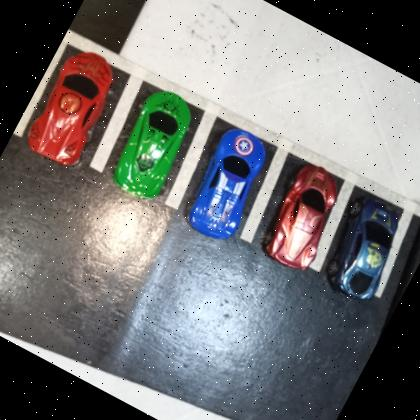Car: (18, 39, 132, 175), (172, 118, 283, 250), (98, 79, 209, 210), (252, 152, 358, 280), (313, 187, 417, 310)
